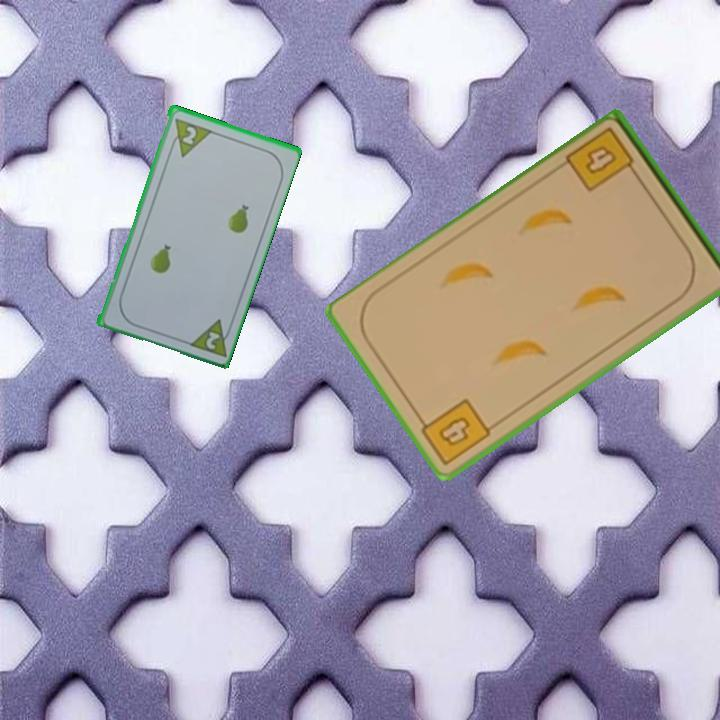2p: (184, 315, 235, 359), (178, 122, 199, 147)
4b: (414, 395, 494, 468), (563, 123, 642, 196)
